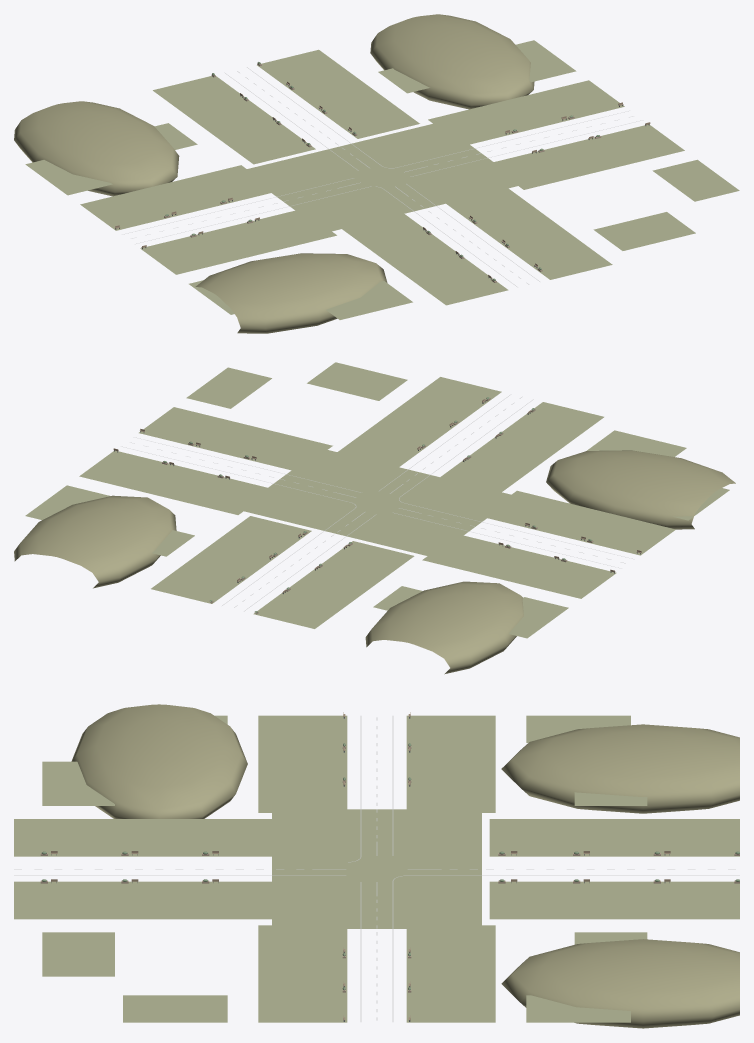
3 views of the same model, one above another, from view 1: azimuth 30°, elevation 25°; view 2: azimuth 150°, elevation 25°; view 3: azimuth 270°, elevation 25° (orthographic). The views are drawn at different scales.
Parts seen in each view (by area): view 1: static; view 2: static; view 3: static.
Boxes of the visible parts, bbox=[...] form: static: bbox=[14, 14, 739, 333]; static: bbox=[14, 362, 735, 674]; static: bbox=[14, 704, 739, 1028].
Size of what is drawn, in the model's own units: 180 by 14.08 by 180.
